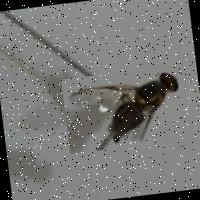Oriental-fruit-fly: (60, 65, 192, 154)
